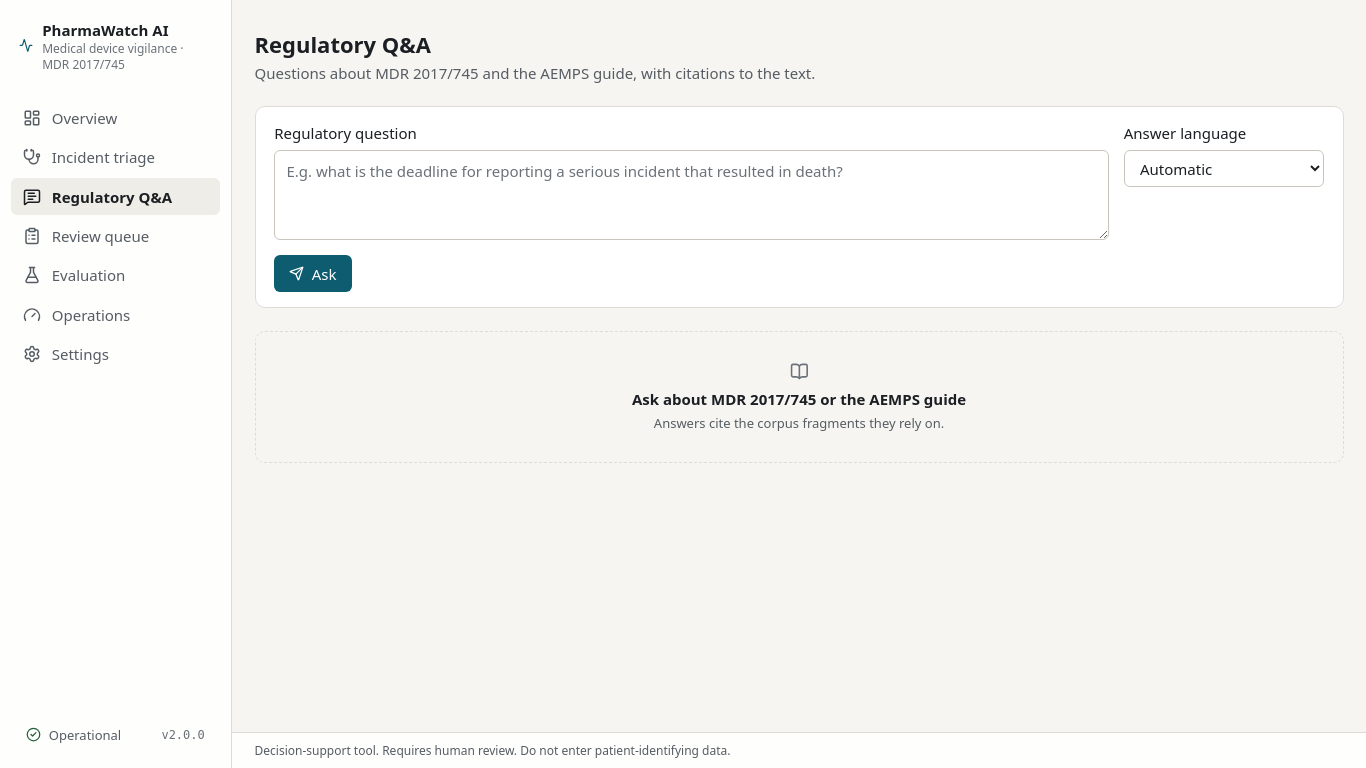
Test: regulatory Q&A › requires at least 10 characters
Click the button "Ask" at (313, 274), box [274,255,352,292]
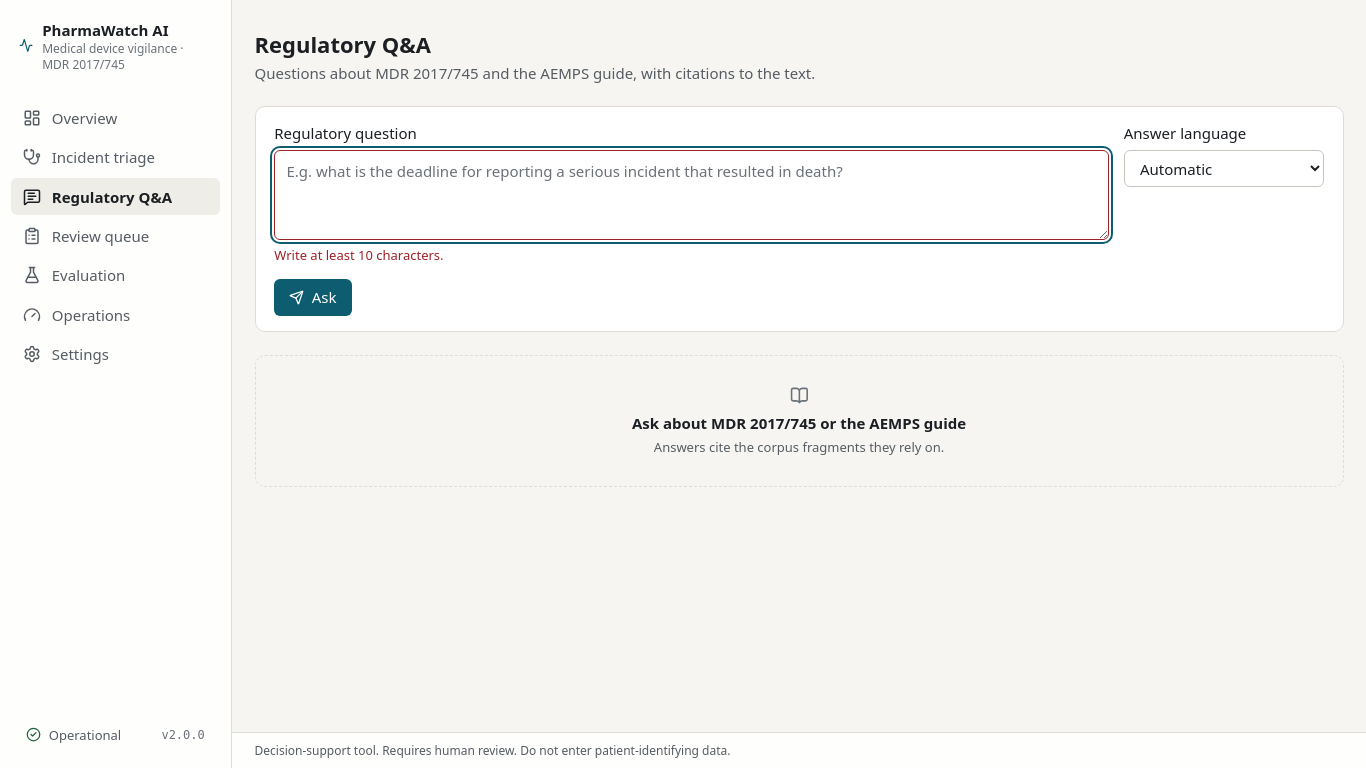
Expected: the text "Write at least 10 characters." is shown, [274,246,444,264]
